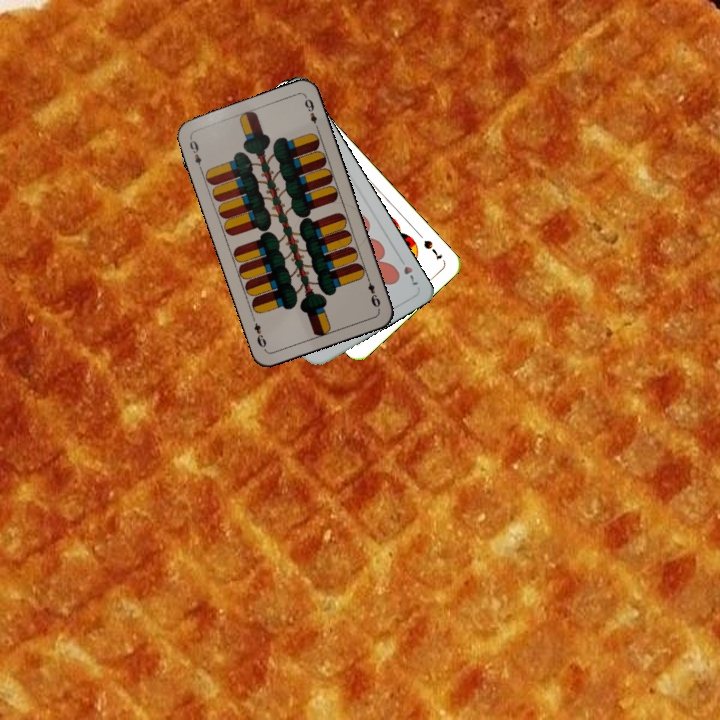E9: (185, 134, 205, 174), (363, 272, 383, 310)
H7: (394, 253, 421, 288)
S7: (420, 236, 445, 263)
